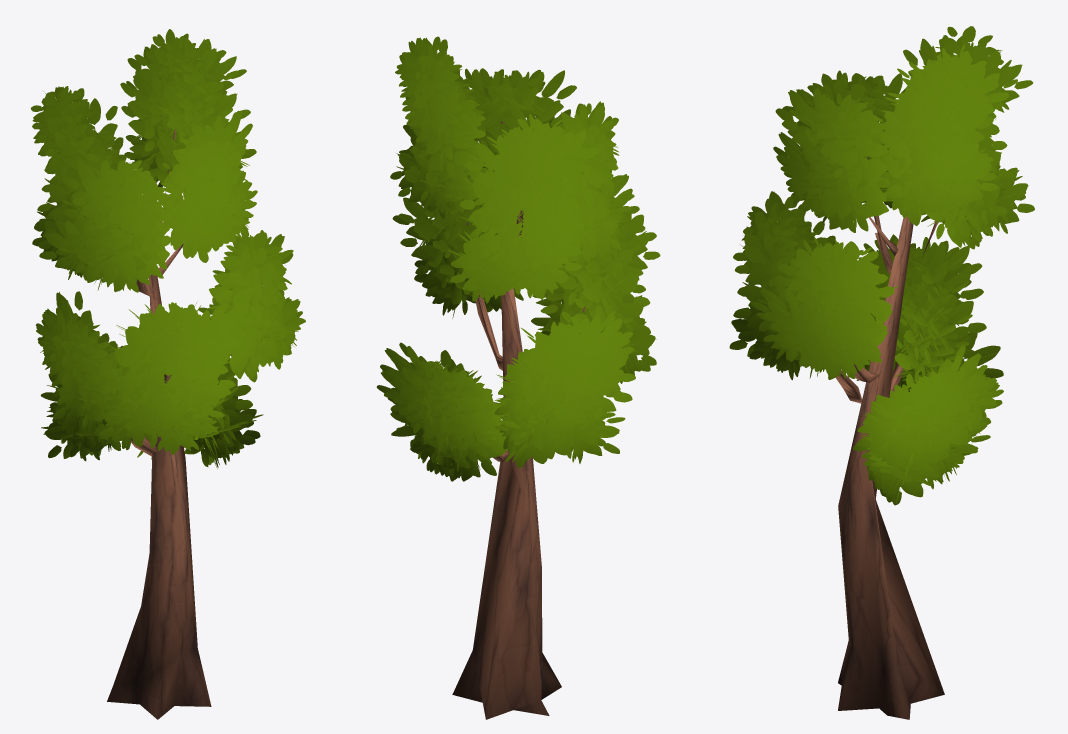
Rendered from CommonTree_3@lod.gltf.
3 views of the same model, side by side, from view 1: azimuth 30°, elevation 25°; view 2: azimuth 150°, elevation 25°; view 3: azimuth 270°, elevation 25° (orthographic). The views are drawn at different scales.
Visible parts, largest first — view 1: CommonTree_3; view 2: CommonTree_3; view 3: CommonTree_3.
Boxes of the visible parts, x1,y1,x2,y2 form: CommonTree_3: (30,29,305,719); CommonTree_3: (376,36,660,719); CommonTree_3: (729,26,1034,719).
Bounding box in the file's own units: 4.06 × 9.43 × 4.24.
Materials: 2 (2 with a texture image).
